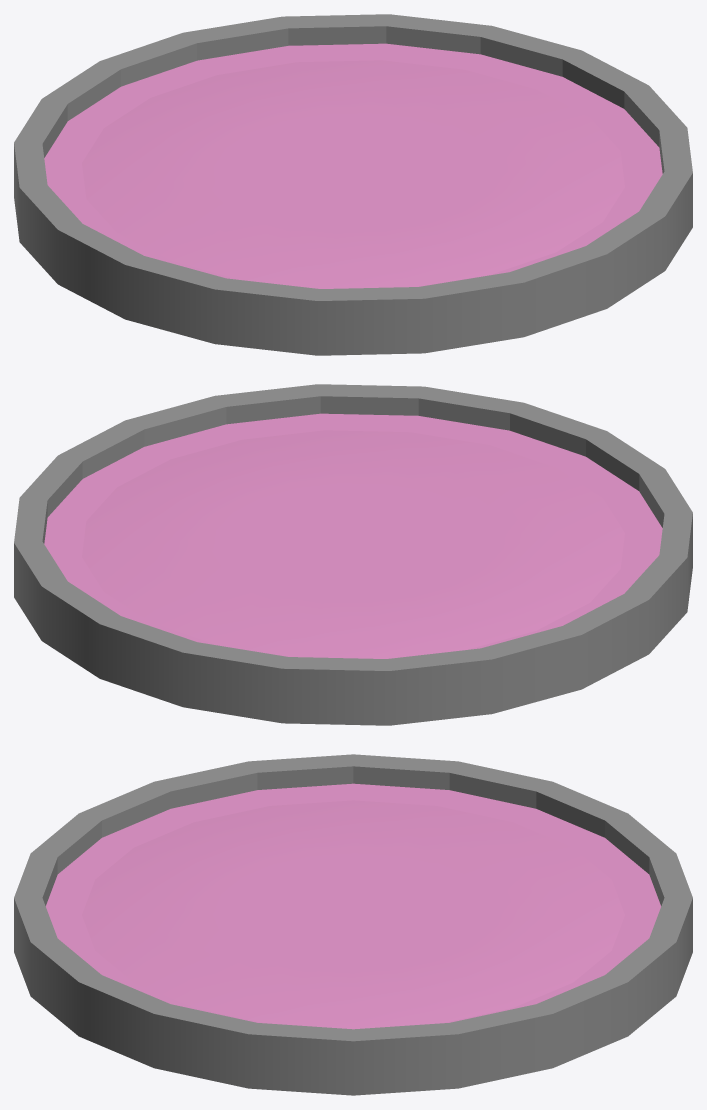
The model's file is Mononcle.FBX.
3 renders of one model, top to bottom at view 1: azimuth 30°, elevation 25°; view 2: azimuth 150°, elevation 25°; view 3: azimuth 270°, elevation 25°, orthographic.
Parts seen in each view (by area): view 1: Cylinder001; view 2: Cylinder001; view 3: Cylinder001.
Part boxes in pixels (box(x1,y1,x2,y2)): Cylinder001: box(14, 14, 692, 355); Cylinder001: box(14, 384, 692, 725); Cylinder001: box(14, 754, 692, 1095).
Bounding box in the file's own units: 41.07 × 3.63 × 41.07.
